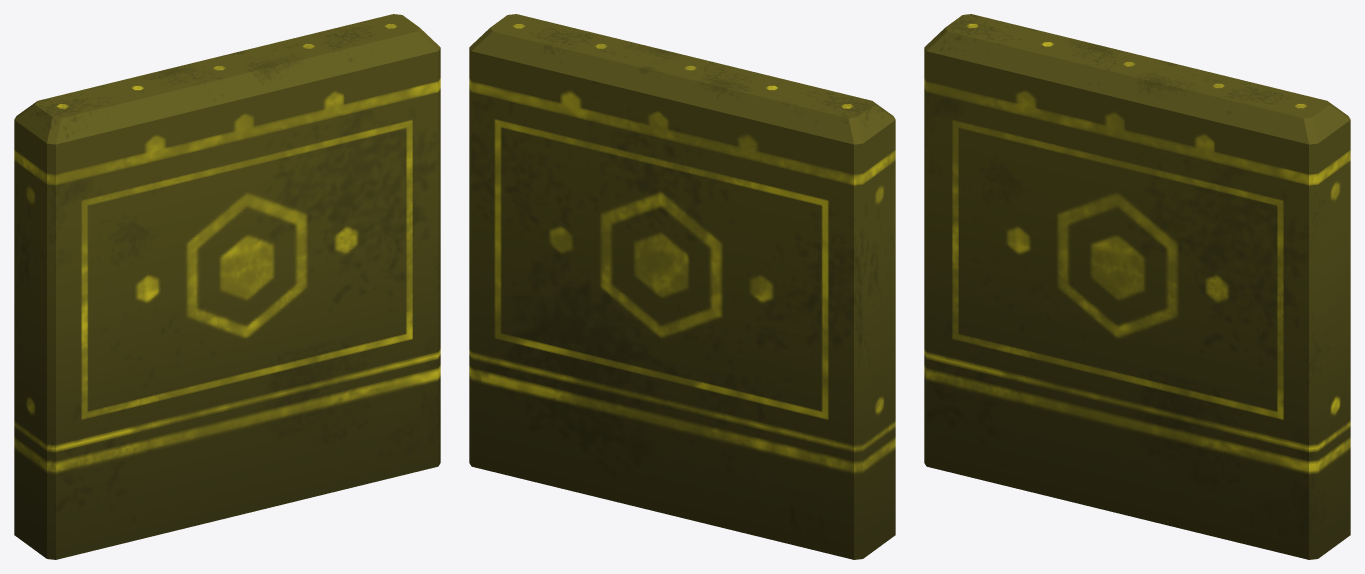
File: SM_Mur.FBX
The picture shows the model from 3 angles, left to right: view 1: azimuth 30°, elevation 25°; view 2: azimuth 150°, elevation 25°; view 3: azimuth 330°, elevation 25°; orthographic projection.
Visible parts, largest first — view 1: Box001; view 2: Box001; view 3: Box001.
Part boxes in pixels (x1,y1,x2,y2): Box001: [14, 14, 440, 559]; Box001: [469, 14, 895, 559]; Box001: [924, 14, 1350, 559].
Bounding box in the file's own units: 359 × 61.85 × 377.
Materials: 1 (1 with a texture image).
